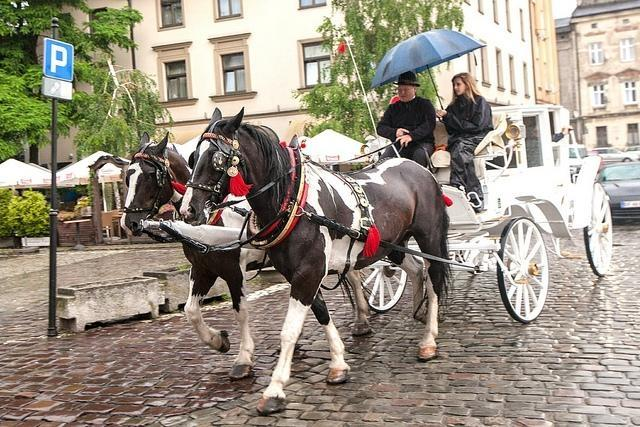car: (596, 162, 640, 222), (588, 148, 640, 173), (568, 143, 587, 183), (623, 144, 640, 158)
